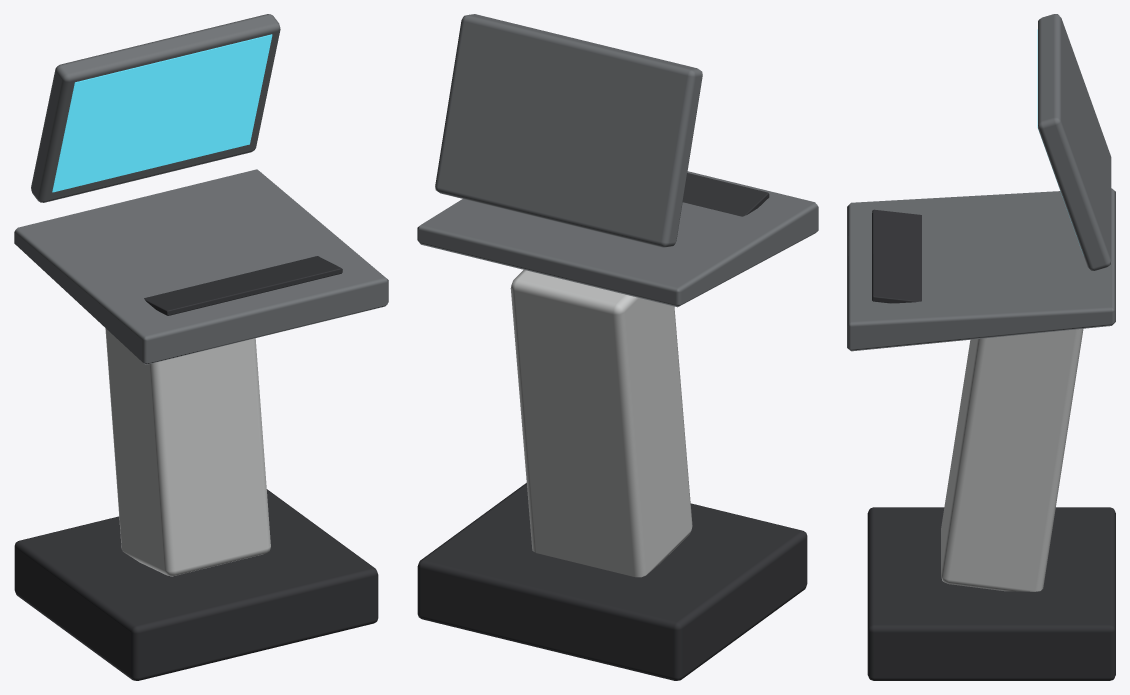
The model's file is terminal.glb.
3 views of the same model, side by side, from view 1: azimuth 30°, elevation 25°; view 2: azimuth 150°, elevation 25°; view 3: azimuth 270°, elevation 25° (orthographic). The views are drawn at different scales.
Visible parts, largest first — view 1: terminal; view 2: terminal; view 3: terminal.
Boxes of the visible parts, x1,y1,x2,y2 form: terminal: [14, 14, 388, 680]; terminal: [417, 14, 818, 680]; terminal: [847, 14, 1115, 680].
Size of the model in its own units: 0.7 by 1.48 by 0.65.
